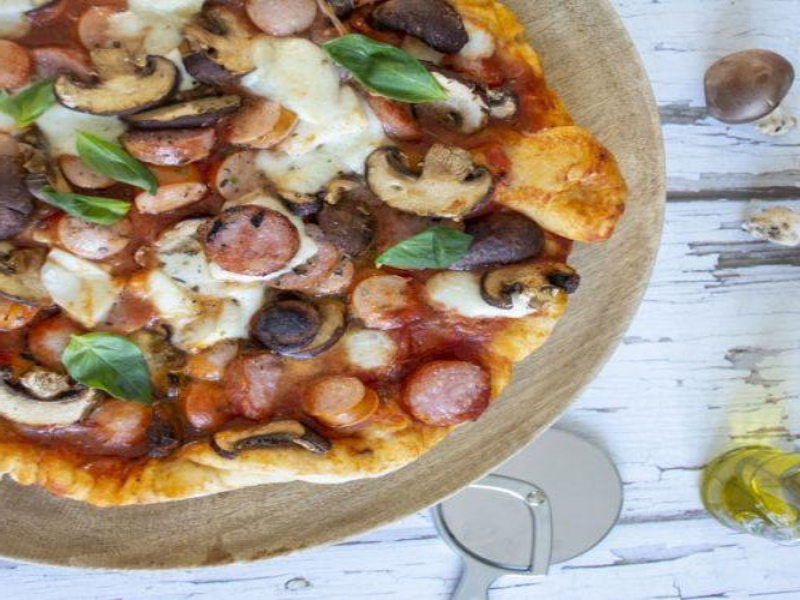champignon: (363, 138, 502, 223), (49, 42, 184, 115)
